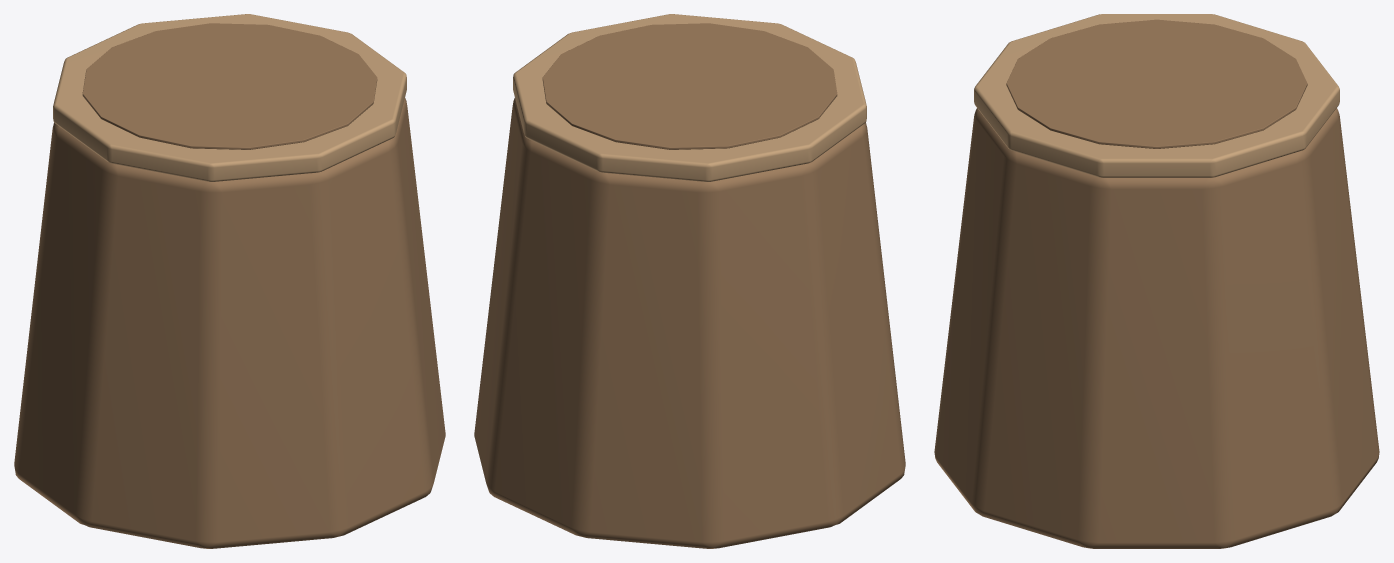
File: SM_Stump_01.fbx
3 renders of one model, left to right at view 1: azimuth 30°, elevation 25°; view 2: azimuth 150°, elevation 25°; view 3: azimuth 270°, elevation 25°, orthographic.
Visible parts, largest first — view 1: SM_Stump_01; view 2: SM_Stump_01; view 3: SM_Stump_01.
Part boxes in pixels (box(x1,y1,x2,y2)): SM_Stump_01: box(14, 14, 445, 548); SM_Stump_01: box(474, 14, 905, 548); SM_Stump_01: box(934, 14, 1379, 548).
Bounding box in the file's own units: 0.9079 × 0.89 × 0.9455.
